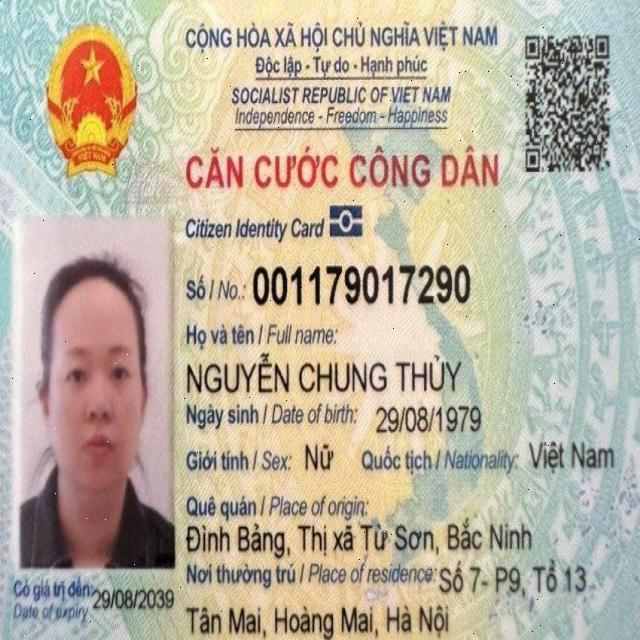current_place: (187, 602, 452, 640), (439, 559, 588, 598)
dob: (375, 404, 482, 437)
expire_date: (92, 586, 175, 612)
gender: (304, 438, 336, 475)
id: (253, 262, 473, 309)
name: (186, 352, 465, 399)
nationality: (529, 435, 615, 476)
origin_place: (186, 519, 534, 560)
